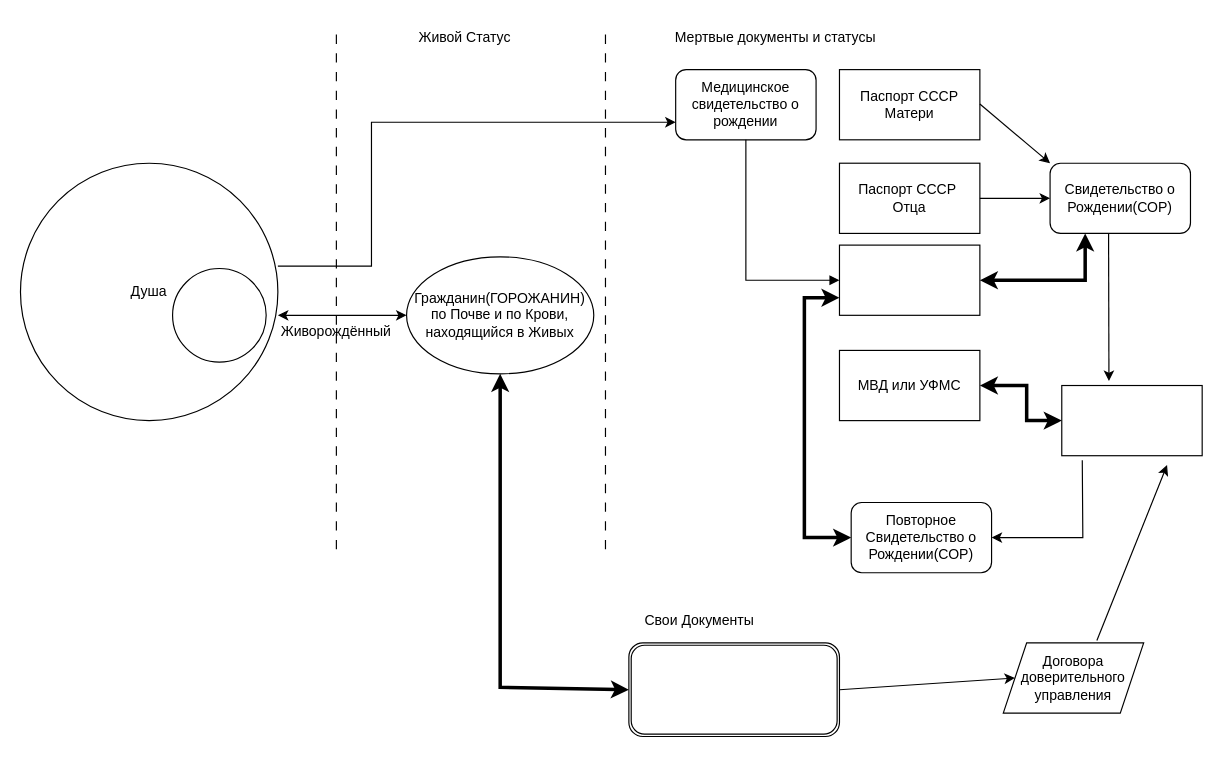
Some shapes in this 1223 by 757 pixel diagram are drawn without their labels. Here are the shapes that lost their labels. From the top down, the centre of each, then its label:
At point (909, 279): "ЗАГС".
At point (218, 314): "Тело".
At point (1131, 420): "Паспорт РФ".
At point (733, 689): "Поверенный Имя-Отчество:Фамилия".
